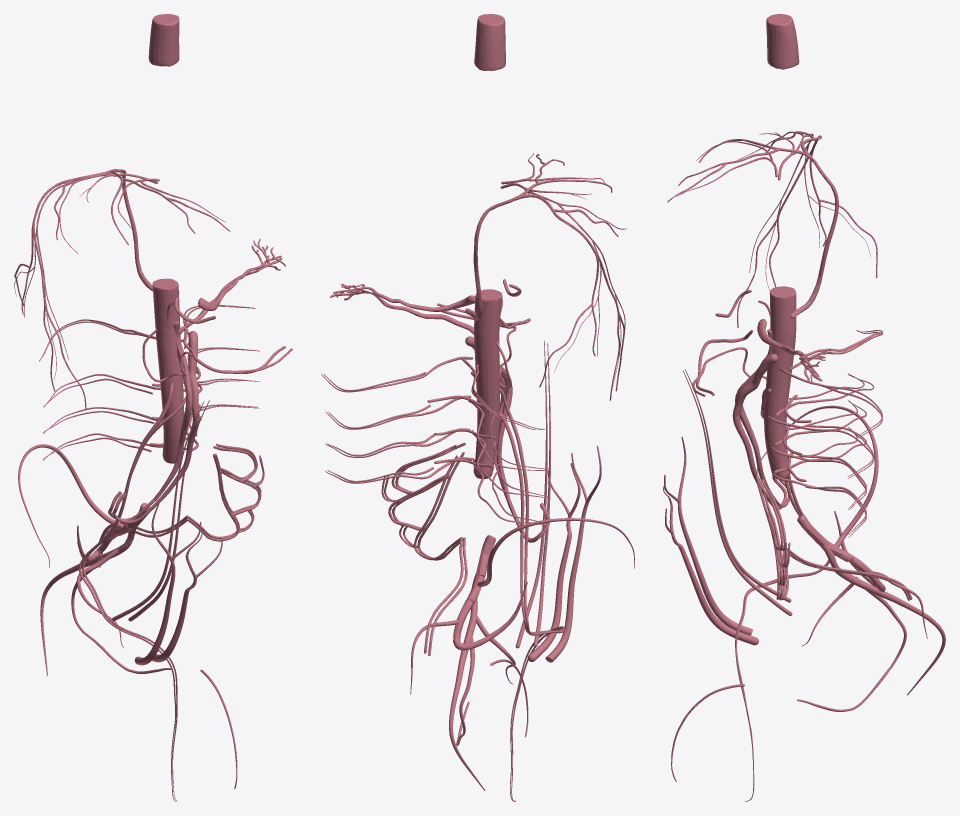
Rendered from cardiovascular-13.glb.
3 renders of one model, left to right at view 1: azimuth 30°, elevation 25°; view 2: azimuth 150°, elevation 25°; view 3: azimuth 270°, elevation 25°, orthographic. The views are drawn at different scales.
Parts seen in each view (by area): view 1: FJ3659, FJ3645, FJ3644, FJ3647, FJ3618, FJ3638, FJ3636, FJ3614, FJ3635, FJ3603, FJ3617, FJ3615 (+8 smaller); view 2: FJ3659, FJ3645, FJ3632, FJ3614, FJ3618, FJ3639, FJ3615, FJ3617, FJ3638, FJ3636, FJ3631, FJ3606 (+11 smaller); view 3: FJ3659, FJ3645, FJ3632, FJ3644, FJ3614, FJ3619, FJ3615, FJ3636, FJ3606, FJ3631, FJ3603, FJ3617 (+8 smaller).
Boxes of the visible parts, x1,y1,x2,y2 form: FJ3659: (152,278,184,463); FJ3645: (148,14,179,66); FJ3644: (112,331,199,523); FJ3647: (108,321,192,520); FJ3618: (78,383,176,801); FJ3638: (186,446,264,541); FJ3636: (39,321,189,460); FJ3614: (134,502,201,665); FJ3635: (39,319,156,458); FJ3603: (18,444,128,567); FJ3617: (82,396,185,801); FJ3615: (152,532,222,662); FJ3659: (473,289,502,479); FJ3645: (474,14,505,70); FJ3632: (321,356,473,483); FJ3614: (545,445,601,662); FJ3618: (500,387,567,801); FJ3639: (381,445,460,560); FJ3615: (527,463,580,661); FJ3617: (471,371,564,801); FJ3638: (384,442,465,560); FJ3636: (461,357,549,525); FJ3631: (323,372,435,482); FJ3606: (449,600,485,790); FJ3659: (764,286,796,478); FJ3645: (766,14,799,69); FJ3632: (767,368,882,537); FJ3644: (732,353,787,509); FJ3614: (664,437,752,635); FJ3619: (699,139,838,318); FJ3615: (663,485,758,645); FJ3636: (774,330,882,473); FJ3606: (835,567,945,695); FJ3631: (800,385,882,534); FJ3603: (757,405,878,547); FJ3617: (735,388,829,801).
Size of the model in its own units: 0.2284 by 0.6204 by 0.2023.
